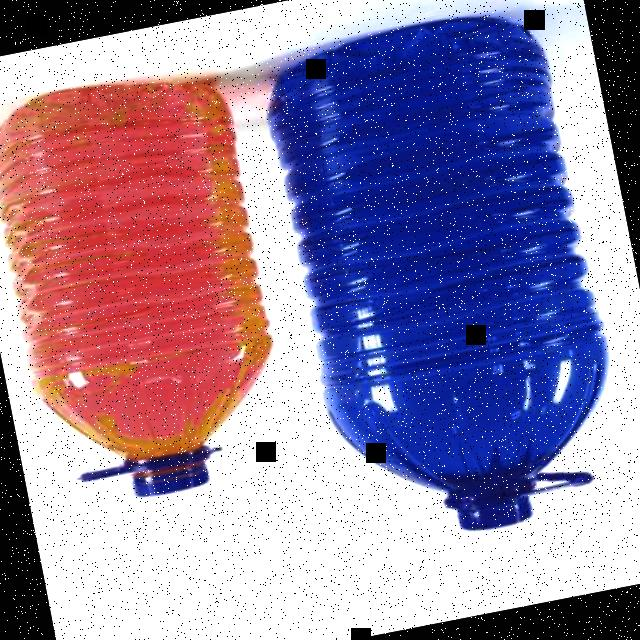chemical_plastic_gallon: (250, 0, 640, 563), (0, 51, 304, 522)
